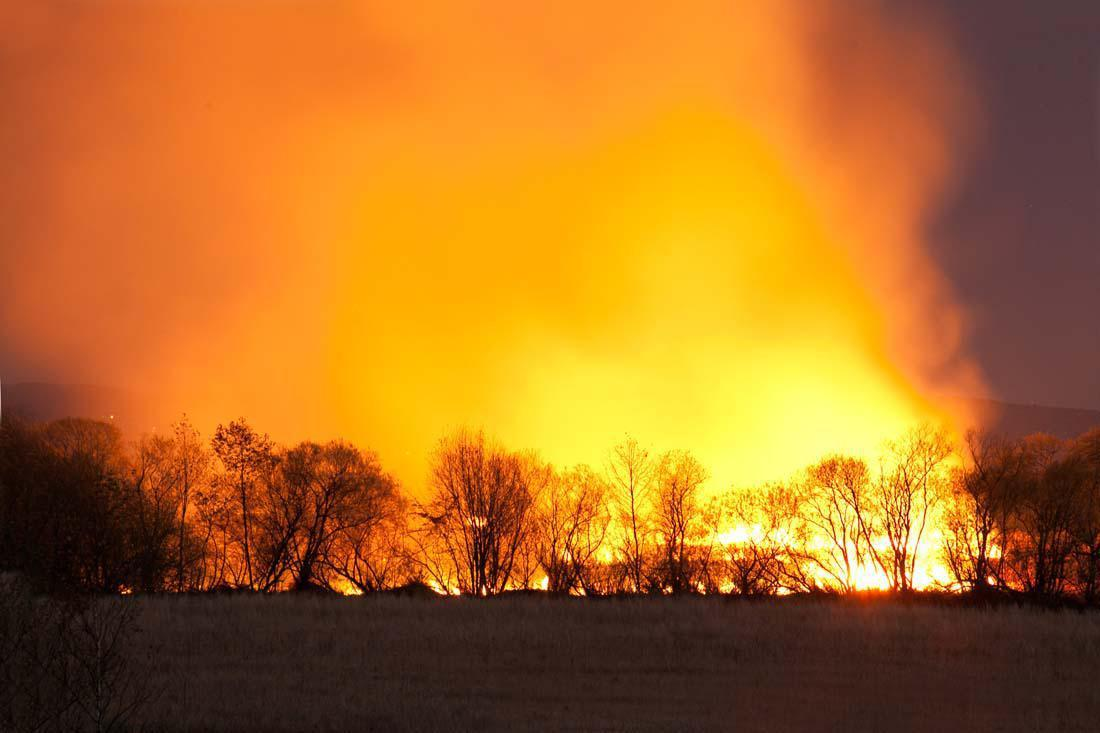fire: (151, 210, 1011, 590)
